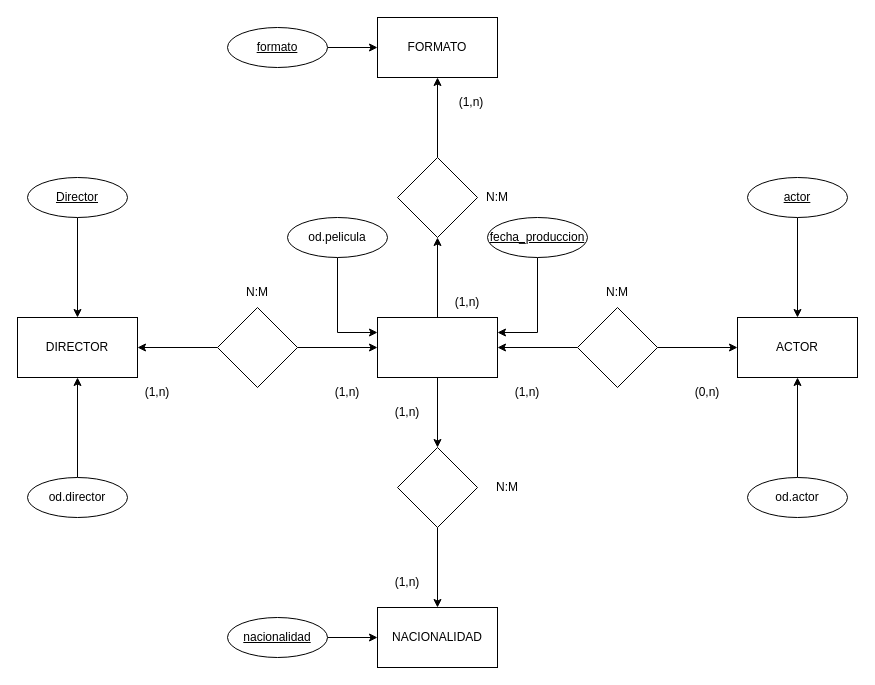
Some shapes in this 875 by 685 pixel diagram are drawn without their labels. The shapes that lost their labels are listed below. From the top down, each one's centre as x and y in pixels, then its label:
[437,197]: GUARDADO
[257,347]: DIRIGE
[437,347]: PELÍCULA
[617,347]: ACTUA
[437,487]: ES PRODUCIDA
